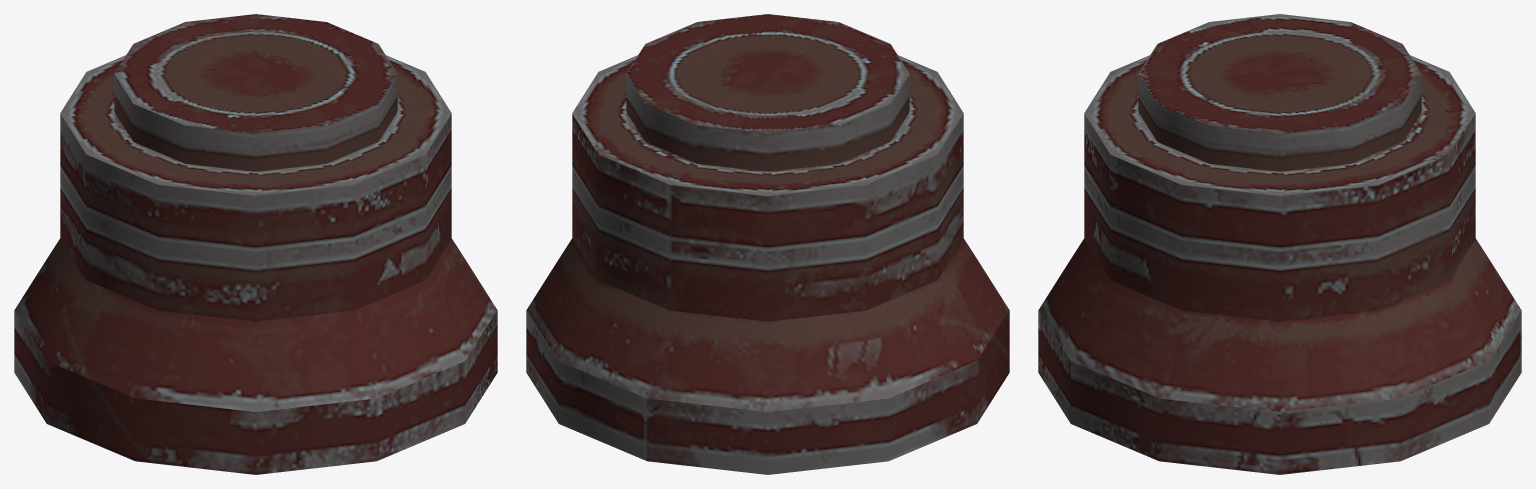
Rendered from NM_ThinTube_Start.fbx.
The picture shows the model from 3 angles, left to right: view 1: azimuth 30°, elevation 25°; view 2: azimuth 150°, elevation 25°; view 3: azimuth 270°, elevation 25°; orthographic projection.
Visible parts, largest first — view 1: Tube_End_low; view 2: Tube_End_low; view 3: Tube_End_low.
Part boxes in pixels (box(x1,y1,x2,y2)): Tube_End_low: box(14, 14, 497, 474); Tube_End_low: box(526, 14, 1009, 474); Tube_End_low: box(1038, 14, 1521, 474).
Bounding box in the file's own units: 28.5 × 19.47 × 28.5.
